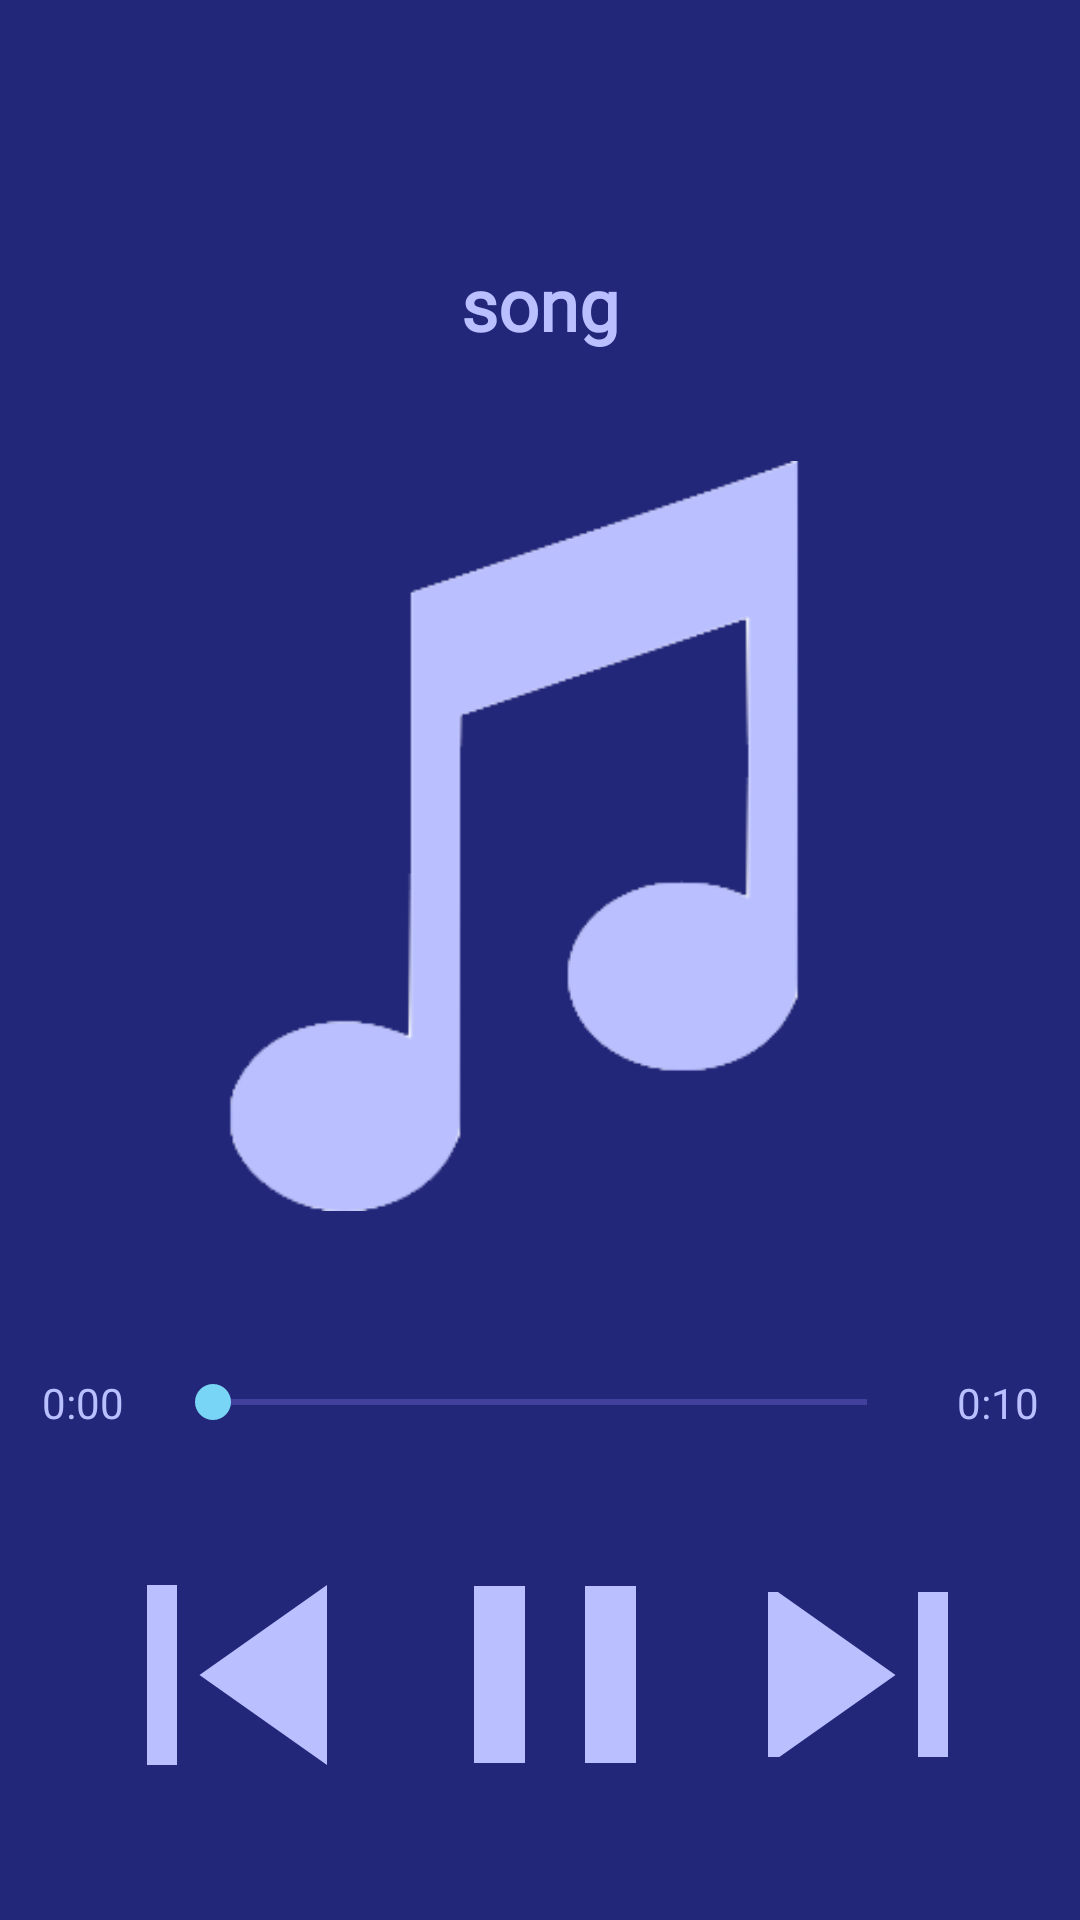

Locate icon controls on the screen. Image size 1080*1920, boxes as box=[x1, y1, x2, y2].
pause: box=[474, 1586, 636, 1763]
skip next: box=[768, 1592, 948, 1757]
skip previous: box=[147, 1585, 327, 1765]
